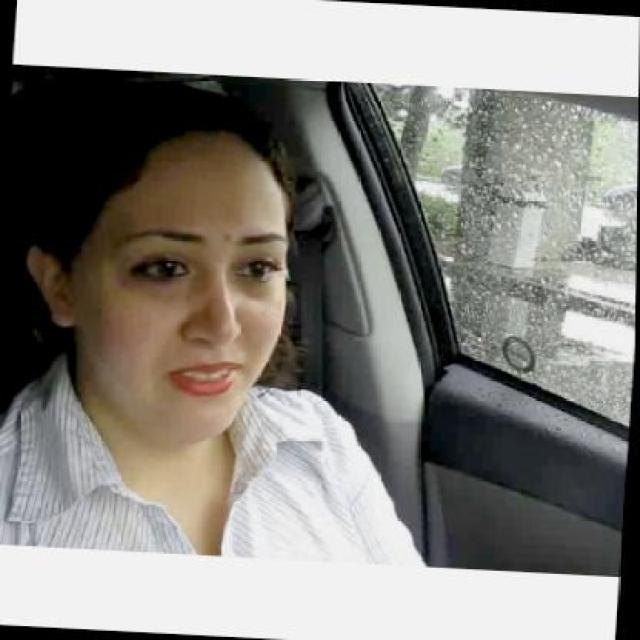attentif: (14, 98, 298, 439)
